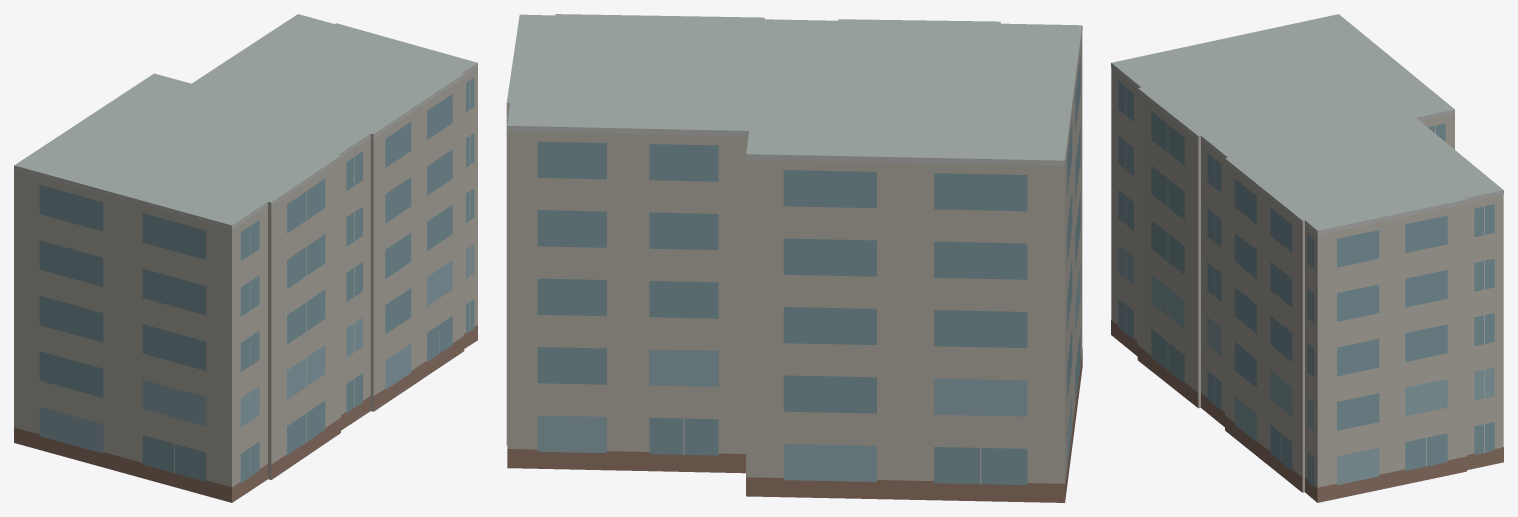
The model's file is survey-upis-32947660.glb.
3 renders of one model, left to right at view 1: azimuth 30°, elevation 25°; view 2: azimuth 150°, elevation 25°; view 3: azimuth 270°, elevation 25°, orthographic. The views are drawn at different scales.
Visible parts, largest first — view 1: survey-upis-32947660.tmp; view 2: survey-upis-32947660.tmp; view 3: survey-upis-32947660.tmp.
Part boxes in pixels (x1,y1,x2,y2): survey-upis-32947660.tmp: [14, 14, 477, 502]; survey-upis-32947660.tmp: [506, 14, 1082, 502]; survey-upis-32947660.tmp: [1111, 14, 1503, 502].
Size of the model in its own units: 25.12 by 14.7 by 19.23.
